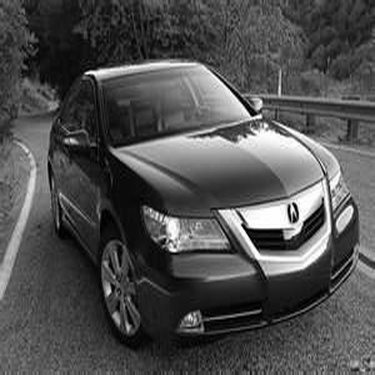car: (33, 48, 364, 354)
